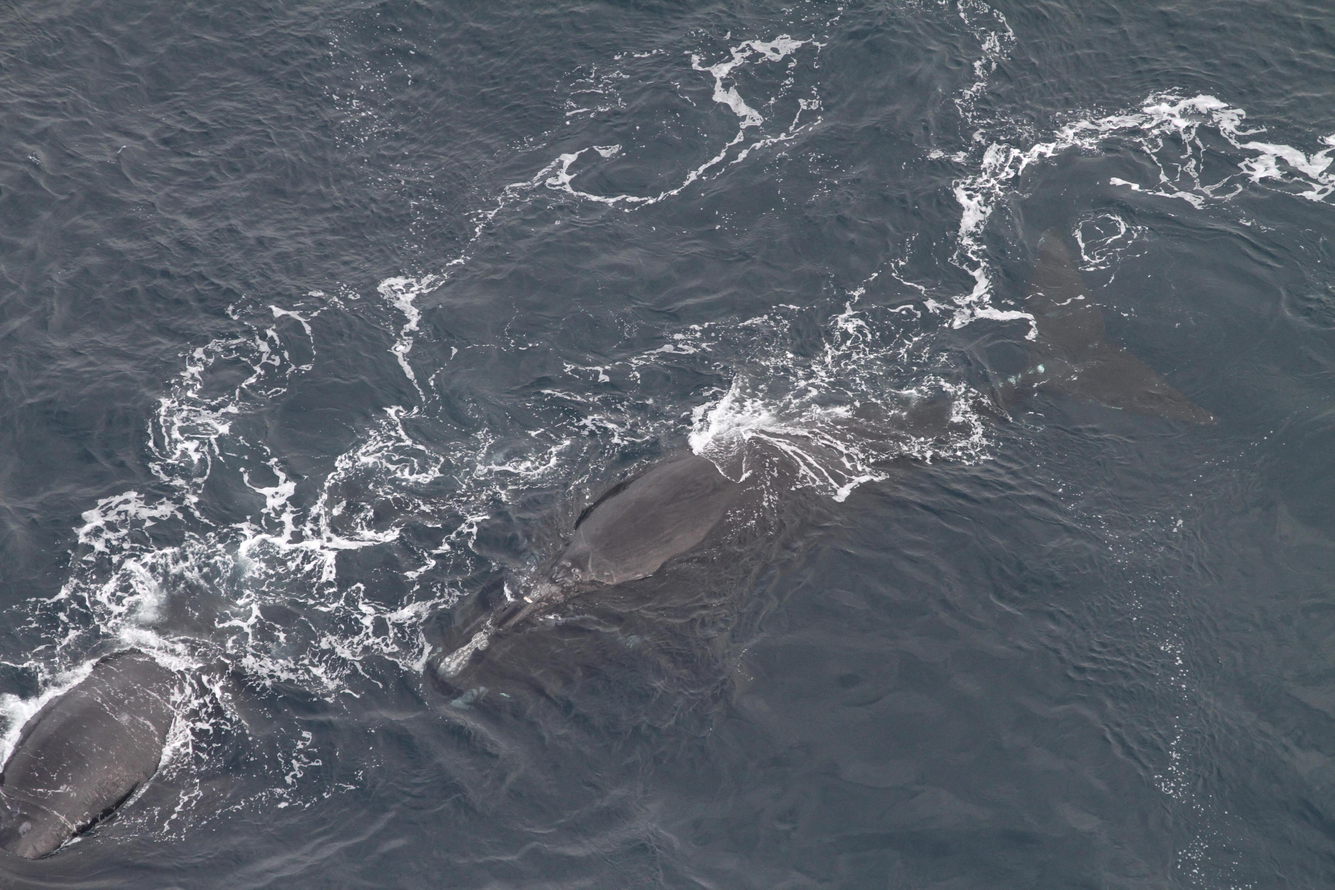whale: (422, 212, 1228, 729), (0, 464, 411, 890)
